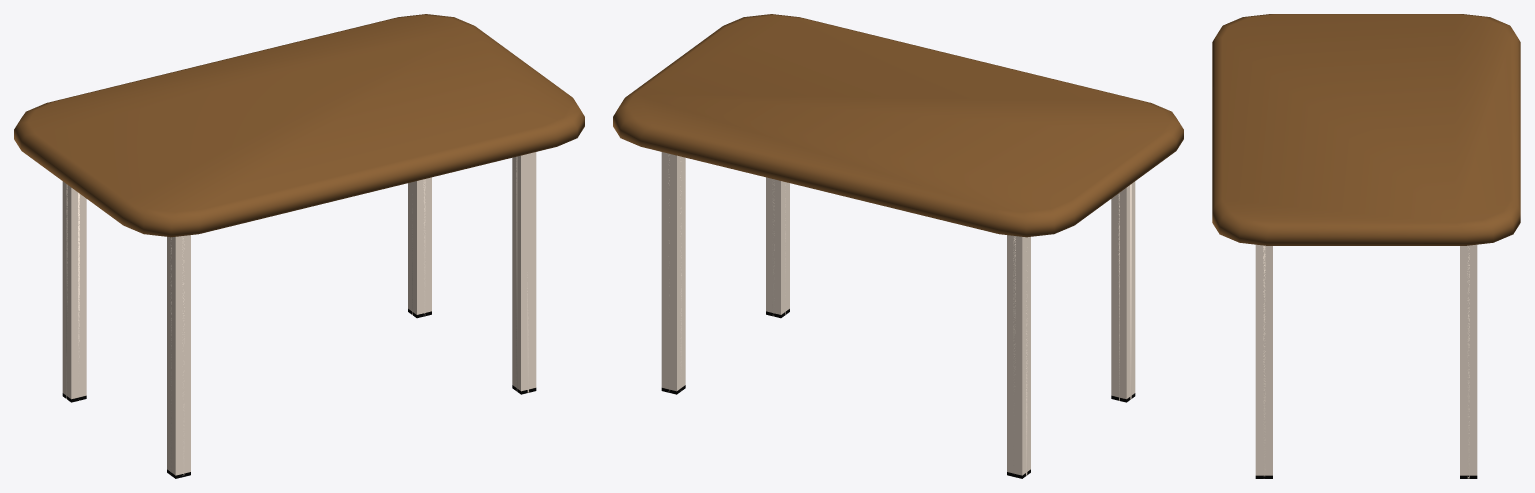
The model's file is Table2.fbx.
The picture shows the model from 3 angles, left to right: view 1: azimuth 30°, elevation 25°; view 2: azimuth 150°, elevation 25°; view 3: azimuth 270°, elevation 25°; orthographic projection. The views are drawn at different scales.
Parts seen in each view (by area): view 1: Cube.002, Jalka1.001, Jalka2.001; view 2: Cube.002, Jalka1.001, Jalka2.001; view 3: Cube.002, Jalka1.001, Jalka2.001.
Part boxes in pixels (box(x1,y1,x2,y2)): Cube.002: box(14, 14, 584, 237); Jalka1.001: box(62, 152, 536, 478); Jalka2.001: box(66, 157, 528, 475); Cube.002: box(613, 14, 1183, 237); Jalka1.001: box(661, 152, 1135, 478); Jalka2.001: box(668, 155, 1131, 475); Cube.002: box(1212, 14, 1520, 245); Jalka1.001: box(1255, 244, 1477, 478); Jalka2.001: box(1263, 245, 1469, 478).
Bounding box in the file's own units: 125 × 73.57 × 75.
